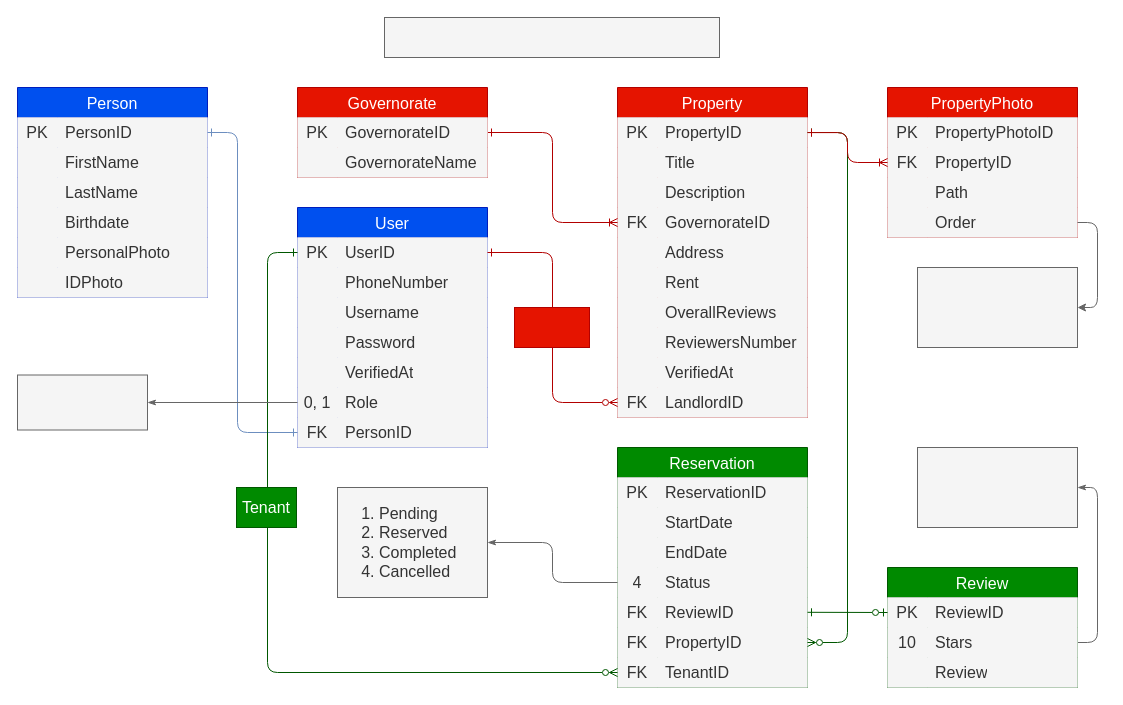
The diagram is 1123 pixels wide and 705 high, and some of its shapes have lost their labels. Here are the shapes that lost their labels. From the top down, the centre of each, then its label:
(x=552, y=37): Renting App Database
(x=552, y=327): Landlord
(x=997, y=307): Integer Values 1, 2, 3, ...
(x=82, y=402): User (0) Admin (1)
(x=997, y=487): Float Value (Stars) 0.0, 0.5, ... , 4.5, 5.0
